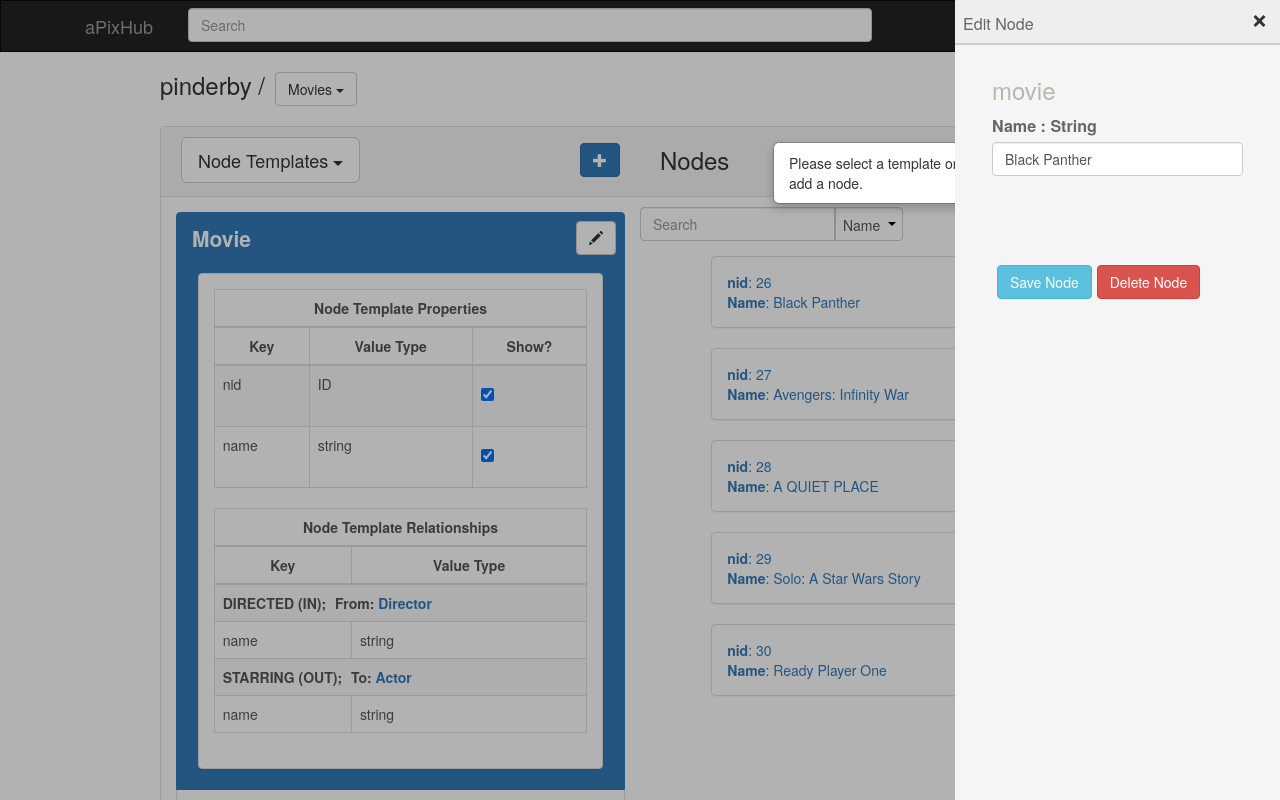
Test: Repo Component › Editing node name changes name and persists when saved
Replace the text in the field with "Black Panther 2" at (1118, 159), box [992,142,1243,176]
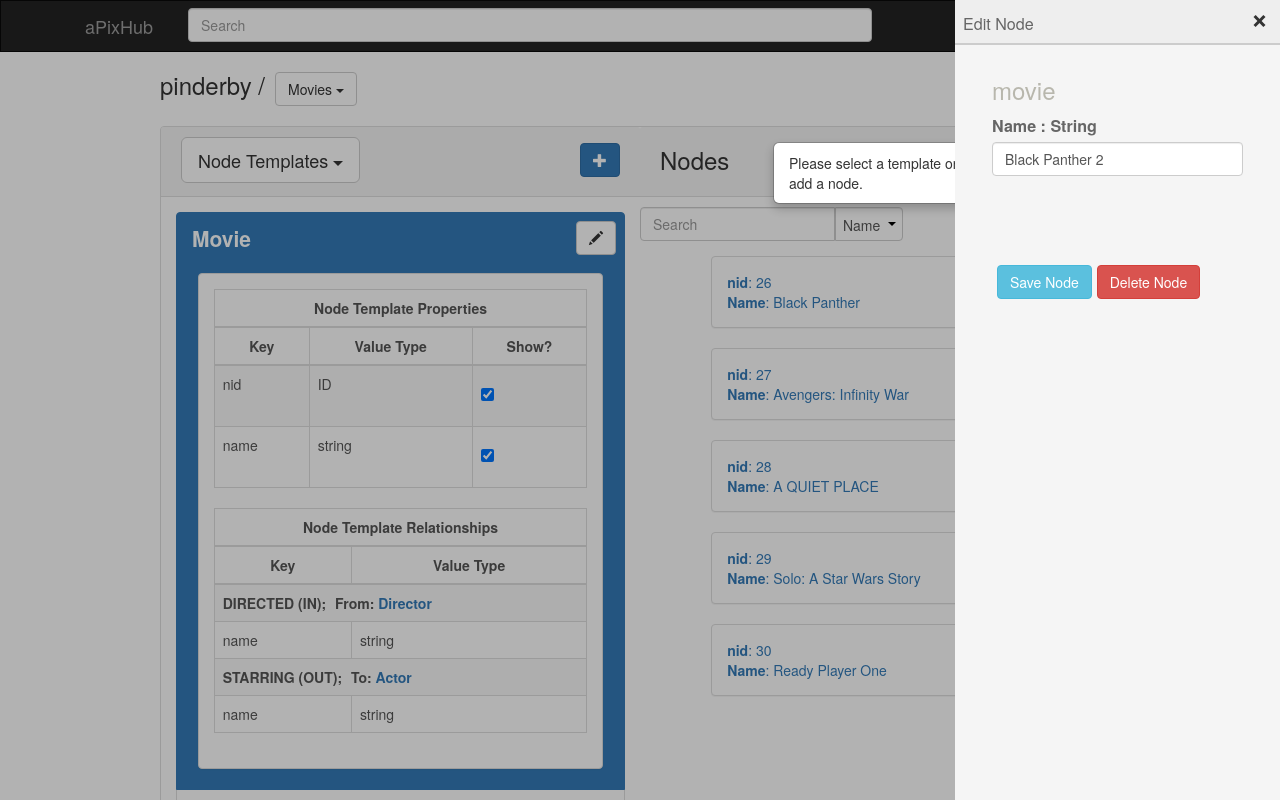
Click the button with class "save-node-btn" at (1044, 282), box [997,265,1092,299]
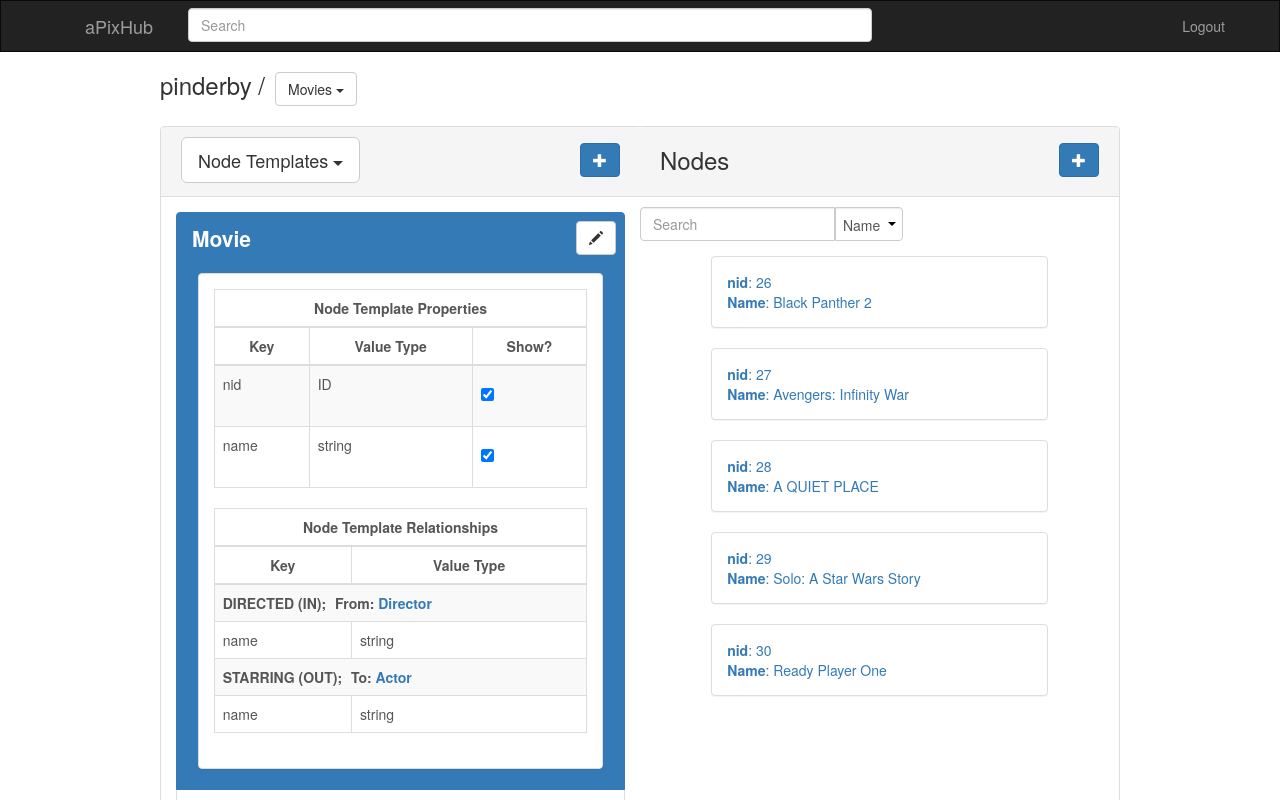
Expected: the text with class "node-prop-value" reads "Black Panther 2", [773,292,872,312]
